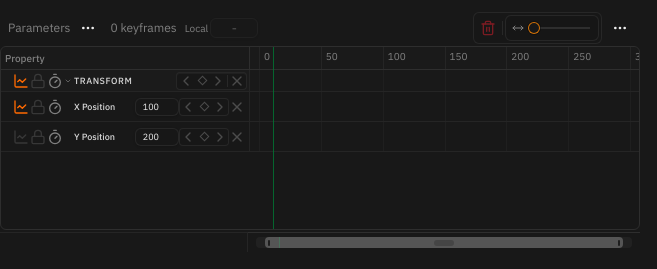
Test: DopesheetEditor property groups › shows matching header icons and supports bulk group controls
Expected: the button named "show all transform curves" is shown, [13,72,29,88]
Expected: the button named "enable auto-key for transform" is shown, [47,72,63,88]
Click the button named "lock transform rows" at (38, 80), box [30,72,46,88]
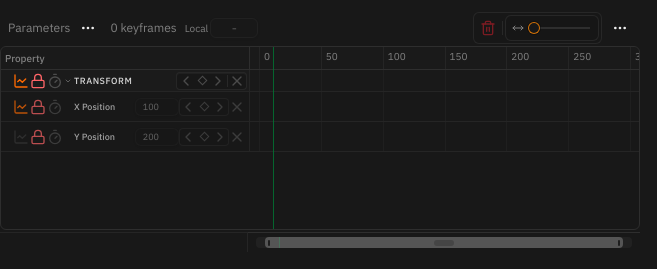
Now the number field named "x position value at playhead" is disabled, box [135,98,179,116]
Now the number field named "y position value at playhead" is disabled, box [135,128,179,146]
